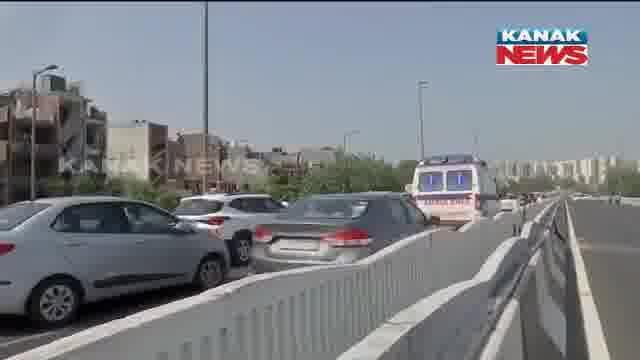AMBULANCE: (410, 149, 501, 219)
